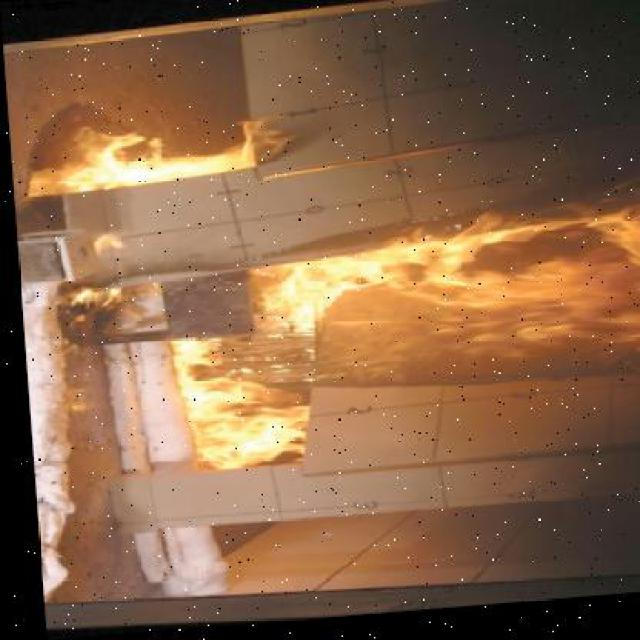fire: (161, 196, 639, 481)
